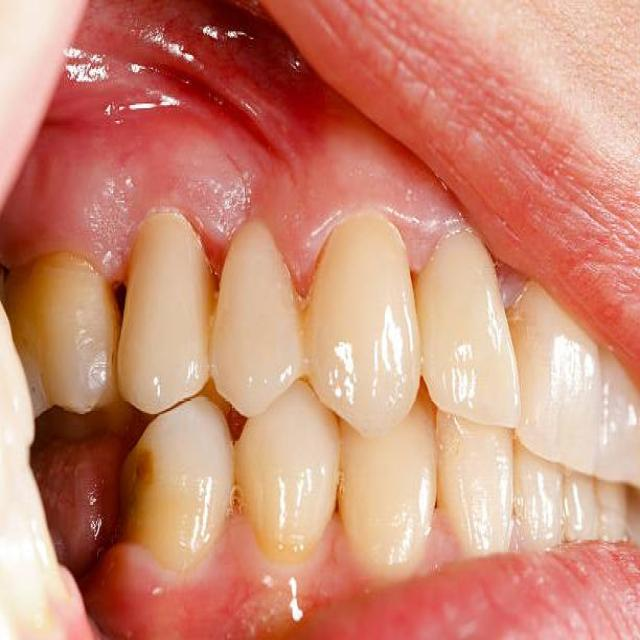caries: (116, 428, 174, 521)
